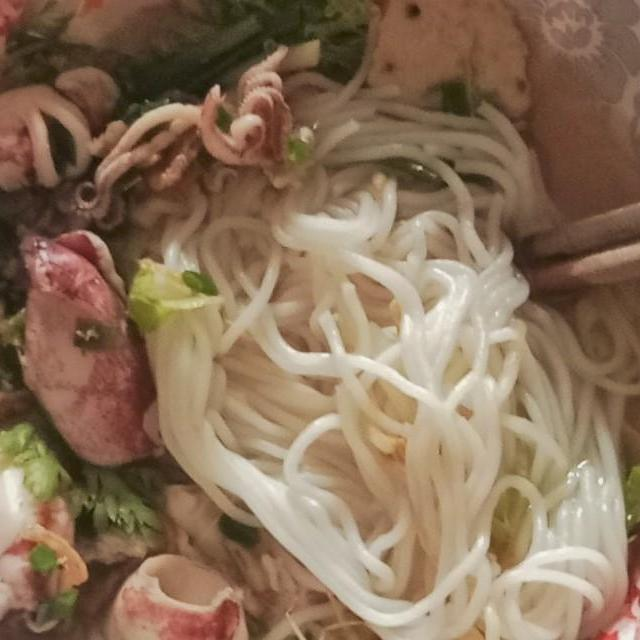bun: (122, 64, 640, 640)
muc: (59, 31, 310, 238), (3, 208, 181, 469), (0, 396, 97, 633), (0, 57, 128, 208), (79, 548, 258, 640)
